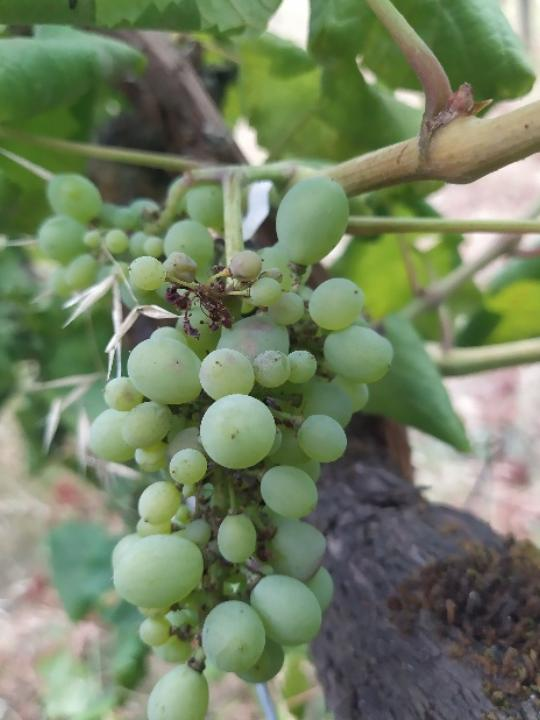grape: (84, 174, 398, 720)
